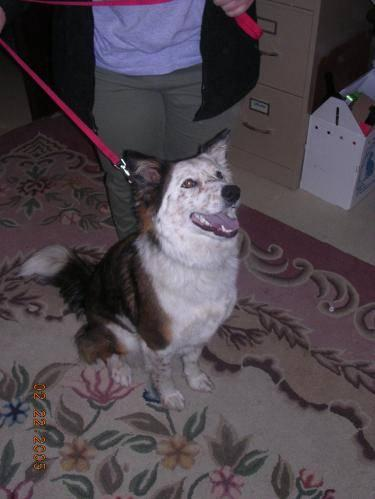dog: (18, 131, 243, 408)
